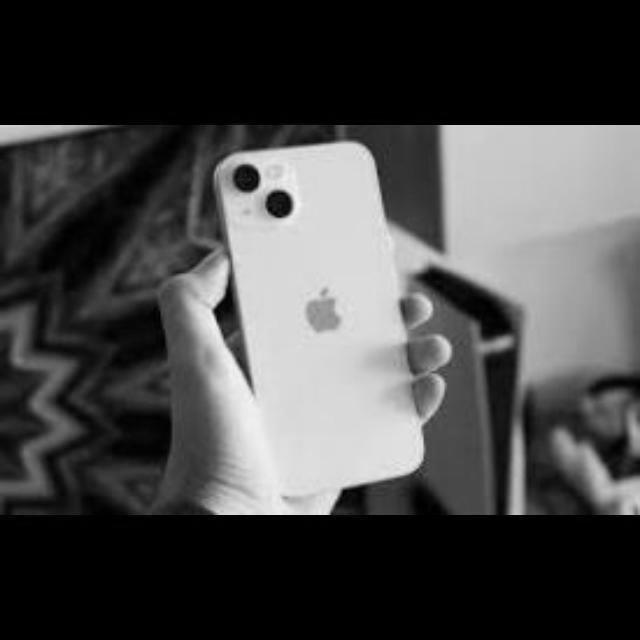fake: (161, 130, 448, 501)
